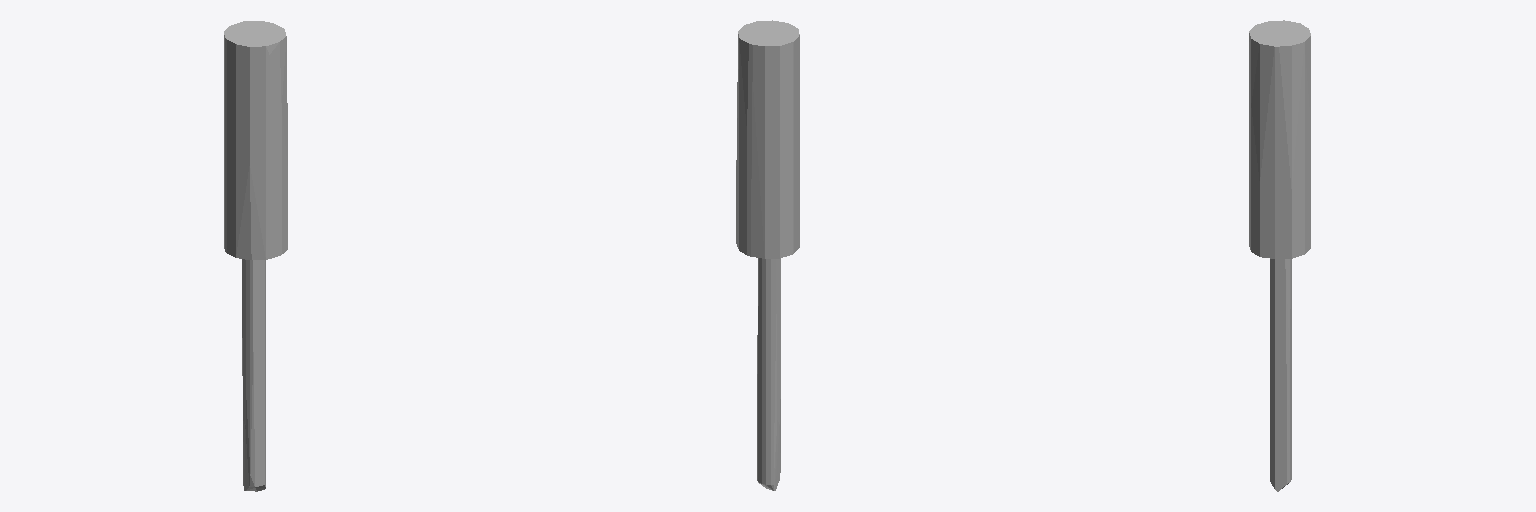
The robot description file, URDF, robot "root":
<robot name="root">
  <link name="link_8d3290b8f19761f4ea1322d8b306fad1_convex_piece_0">
    <inertial>
      <origin rpy="0 0 0" xyz="0 0 0"/>
      <mass value="2.97E-05"/>
      <inertia ixx="1.36E-07" ixy="-8.30E-13" ixz="2.10E-09" iyy="1.36E-07" iyz="-1.52E-09" izz="1.05E-09"/>
    </inertial>
    <visual>
      <origin rpy="0 0 0" xyz="0 0 0"/>
      <geometry>
        <mesh filename="8d3290b8f19761f4ea1322d8b306fad1_convex_piece_0.obj" scale="1.0000E+00"/>
      </geometry>
      <material name="">
        <color rgba="7.50E-01 7.50E-01 7.50E-01 1"/>
      </material>
    </visual>
    <collision>
      <origin rpy="0 0 0" xyz="0 0 0"/>
      <geometry>
        <mesh filename="8d3290b8f19761f4ea1322d8b306fad1_convex_piece_0.obj" scale="1.0000E+00"/>
      </geometry>
    </collision>
  </link>
  <link name="link_8d3290b8f19761f4ea1322d8b306fad1_convex_piece_1">
    <inertial>
      <origin rpy="0 0 0" xyz="0 0 0"/>
      <mass value="2.07E-04"/>
      <inertia ixx="1.32E-06" ixy="-1.84E-10" ixz="-2.86E-09" iyy="1.32E-06" iyz="-7.43E-09" izz="5.46E-08"/>
    </inertial>
    <visual>
      <origin rpy="0 0 0" xyz="0 0 0"/>
      <geometry>
        <mesh filename="8d3290b8f19761f4ea1322d8b306fad1_convex_piece_1.obj" scale="1.0000E+00"/>
      </geometry>
      <material name="">
        <color rgba="7.50E-01 7.50E-01 7.50E-01 1"/>
      </material>
    </visual>
    <collision>
      <origin rpy="0 0 0" xyz="0 0 0"/>
      <geometry>
        <mesh filename="8d3290b8f19761f4ea1322d8b306fad1_convex_piece_1.obj" scale="1.0000E+00"/>
      </geometry>
    </collision>
  </link>
  <joint name="link_8d3290b8f19761f4ea1322d8b306fad1_convex_piece_1_joint" type="fixed">
    <origin rpy="0 0 0" xyz="0 0 0"/>
    <parent link="link_8d3290b8f19761f4ea1322d8b306fad1_convex_piece_0"/>
    <child link="link_8d3290b8f19761f4ea1322d8b306fad1_convex_piece_1"/>
  </joint>
</robot>

--- What the picture shows (computed from the rendered views, not written in the file) ---
3 views of the same robot in one strip: view 1: azimuth 30°, elevation 25°; view 2: azimuth 150°, elevation 25°; view 3: azimuth 270°, elevation 25° (orthographic).
Robot: root — 2 links, 1 joints (1 fixed); root link link_8d3290b8f19761f4ea1322d8b306fad1_convex_piece_0; default pose: all joints at 0.
Visible links, largest first — view 1: link_8d3290b8f19761f4ea1322d8b306fad1_convex_piece_1, link_8d3290b8f19761f4ea1322d8b306fad1_convex_piece_0; view 2: link_8d3290b8f19761f4ea1322d8b306fad1_convex_piece_1, link_8d3290b8f19761f4ea1322d8b306fad1_convex_piece_0; view 3: link_8d3290b8f19761f4ea1322d8b306fad1_convex_piece_1, link_8d3290b8f19761f4ea1322d8b306fad1_convex_piece_0.
Boxes of the visible links, <box> form: link_8d3290b8f19761f4ea1322d8b306fad1_convex_piece_1: <box>224,21,287,259</box>; link_8d3290b8f19761f4ea1322d8b306fad1_convex_piece_0: <box>242,259,265,491</box>; link_8d3290b8f19761f4ea1322d8b306fad1_convex_piece_1: <box>736,20,799,258</box>; link_8d3290b8f19761f4ea1322d8b306fad1_convex_piece_0: <box>757,258,780,490</box>; link_8d3290b8f19761f4ea1322d8b306fad1_convex_piece_1: <box>1249,20,1310,258</box>; link_8d3290b8f19761f4ea1322d8b306fad1_convex_piece_0: <box>1270,259,1291,491</box>.
Size in the robot's own frame: 0.0458 by 0.0458 by 0.3711 metres.
2 mesh visuals loaded from 2 distinct referenced files (2 OBJ).